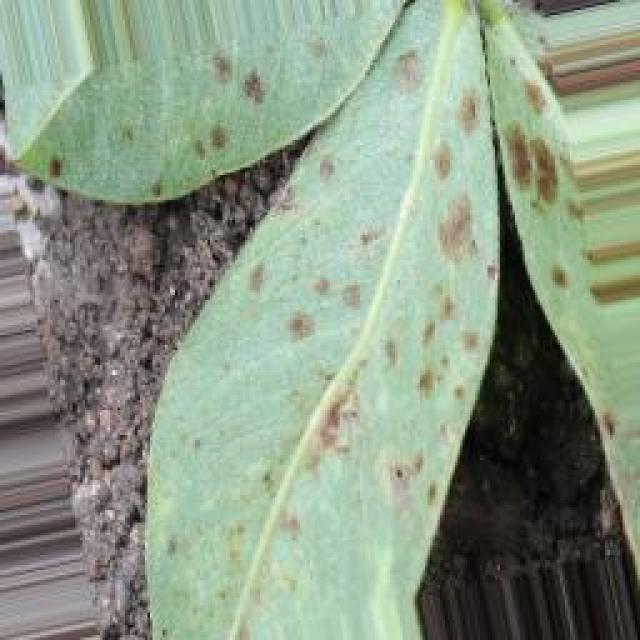Whitefly: (16, 24, 614, 575)
